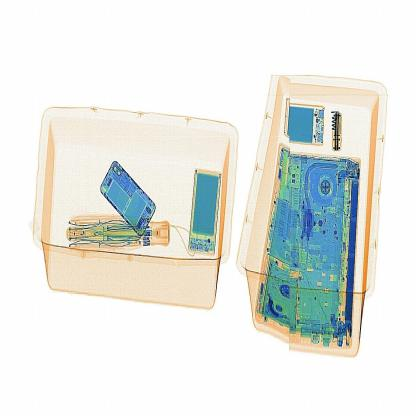scissors: (329, 109, 346, 157)
